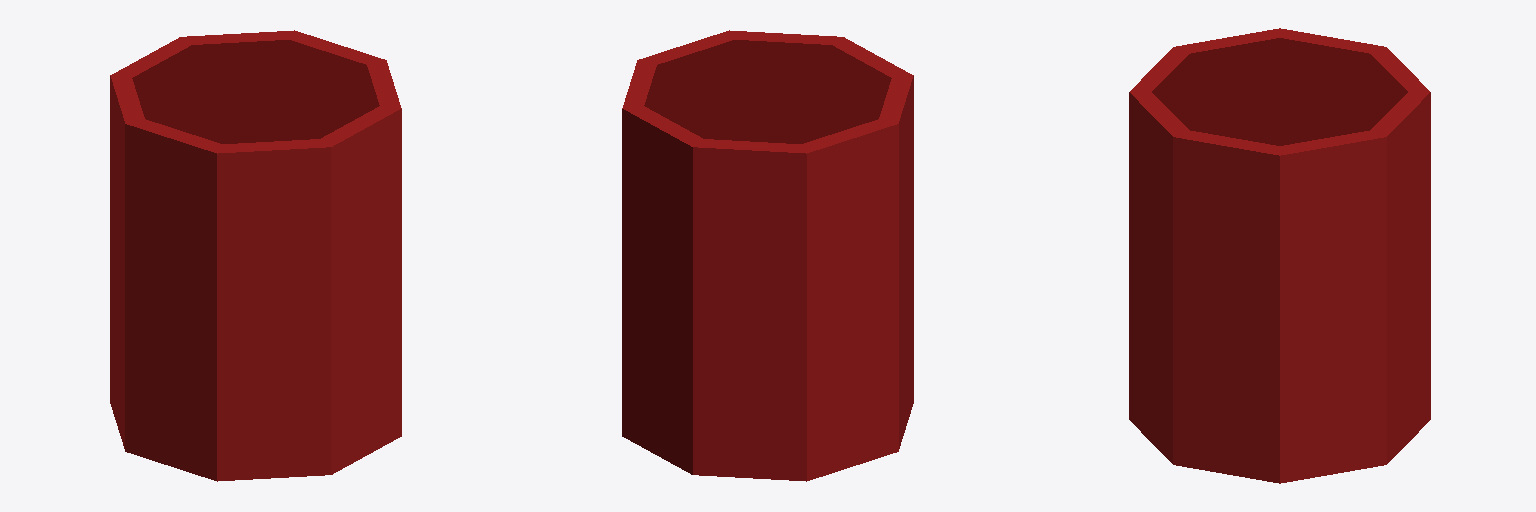
Rendered from ExplosiveBarrel.obj.
3 views of the same model, side by side, from view 1: azimuth 30°, elevation 25°; view 2: azimuth 150°, elevation 25°; view 3: azimuth 270°, elevation 25° (orthographic).
Visible parts, largest first — view 1: ExplosiveBarrel; view 2: ExplosiveBarrel; view 3: ExplosiveBarrel.
Part boxes in pixels (x1,y1,x2,y2): ExplosiveBarrel: (110,30,401,481); ExplosiveBarrel: (622,30,913,481); ExplosiveBarrel: (1129,28,1430,483).
Size of the model in its own units: 1 by 1.2 by 1.